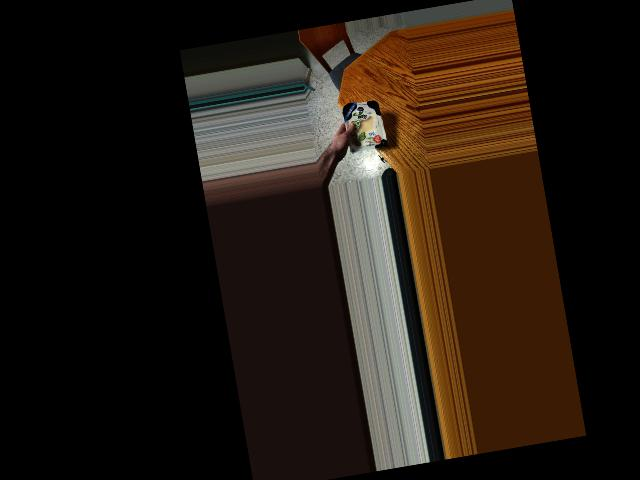cheese: (338, 87, 389, 164)
